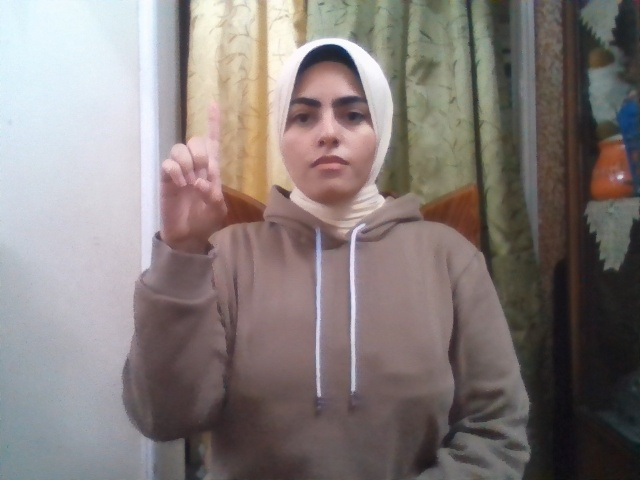D: (160, 102, 228, 242)
